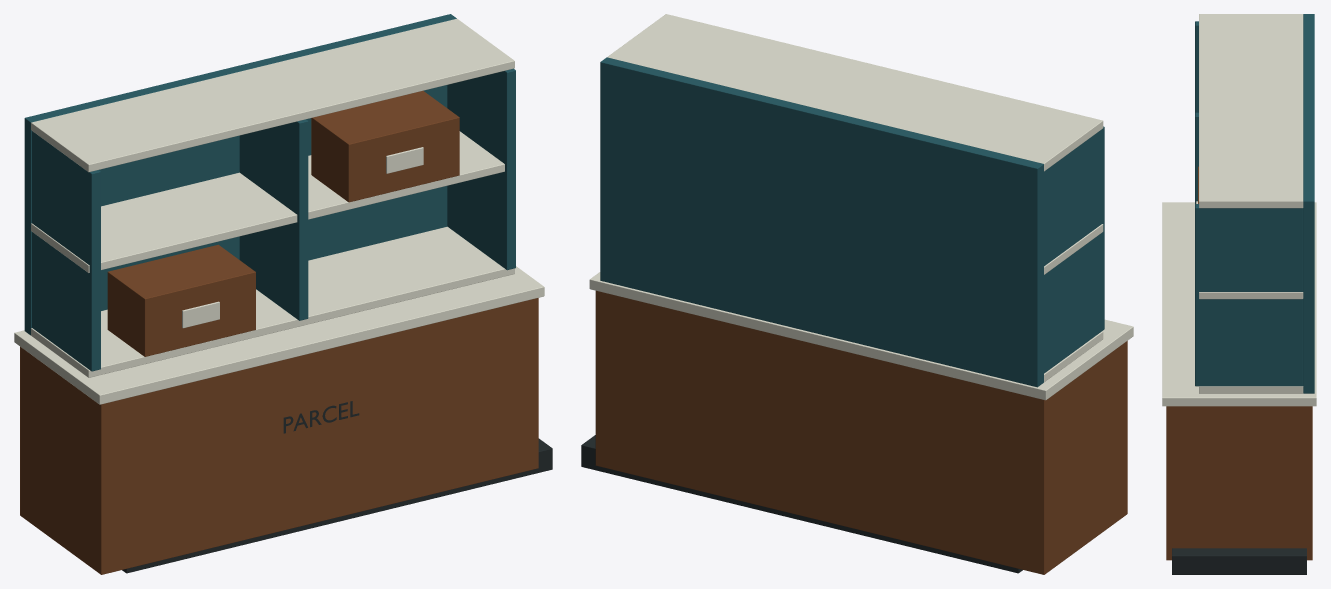
Rendered from source-edit.glb.
3 renders of one model, left to right at view 1: azimuth 30°, elevation 25°; view 2: azimuth 150°, elevation 25°; view 3: azimuth 270°, elevation 25°, orthographic. The views are drawn at different scales.
Parts seen in each view (by area): view 1: Counter_Body, Shelf.002, Rear_Back, Shelf, Shelf.001, Worktop, Cubby_Divider.001, Parcel, Parcel.001, Cubby_Divider.002, Cubby_Divider, Counter_Base (+2 smaller); view 2: Rear_Back, Counter_Body, Shelf.002, Cubby_Divider.001, Worktop, Counter_Base; view 3: Counter_Body, Shelf.002, Cubby_Divider, Worktop, Rear_Back, Counter_Base, Shelf, Shelf.001, Cubby_Divider.001, Cubby_Divider.002.
Boxes of the visible parts, x1,y1,x2,y2 form: Counter_Body: (20, 298, 538, 574); Shelf.002: (31, 18, 514, 172); Rear_Back: (24, 14, 456, 335); Shelf: (31, 226, 514, 377); Shelf.001: (31, 131, 504, 272); Worktop: (14, 266, 544, 404); Cubby_Divider.001: (32, 131, 100, 371); Parcel: (107, 244, 255, 356); Parcel.001: (311, 91, 459, 202); Cubby_Divider.002: (239, 119, 308, 320); Cubby_Divider: (447, 68, 515, 270); Counter_Base: (122, 438, 552, 573); Rear_Back: (600, 57, 1043, 387); Counter_Body: (595, 290, 1127, 574); Shelf.002: (607, 14, 1103, 171); Cubby_Divider.001: (1044, 126, 1104, 373); Worktop: (589, 272, 1133, 400); Counter_Base: (581, 435, 1022, 573); Counter_Body: (1166, 406, 1312, 560); Shelf.002: (1199, 14, 1303, 208); Cubby_Divider: (1195, 204, 1303, 386); Worktop: (1162, 202, 1316, 406); Rear_Back: (1303, 14, 1314, 393); Counter_Base: (1172, 548, 1306, 574); Shelf: (1199, 386, 1303, 393); Shelf.001: (1199, 292, 1303, 299); Cubby_Divider.001: (1195, 21, 1198, 112); Cubby_Divider.002: (1195, 112, 1198, 203).
Bounding box in the file's own units: 2.47 × 2.08 × 0.8.
